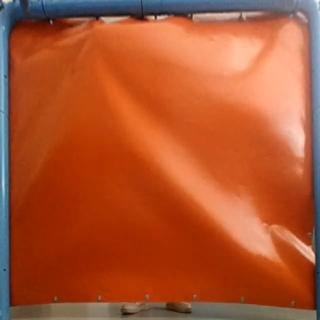Hit-hRxx: (88, 29, 101, 41)
